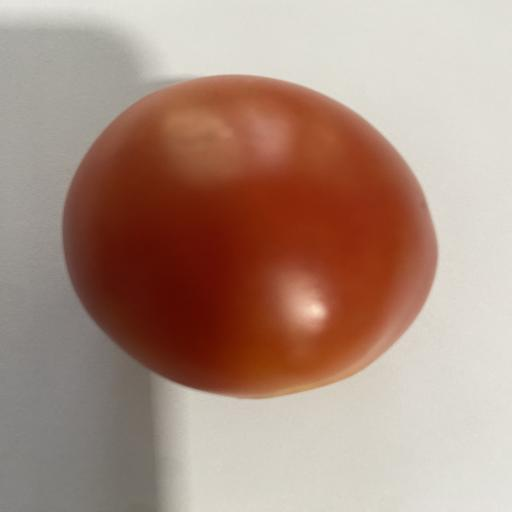ripe: (63, 76, 437, 398)
